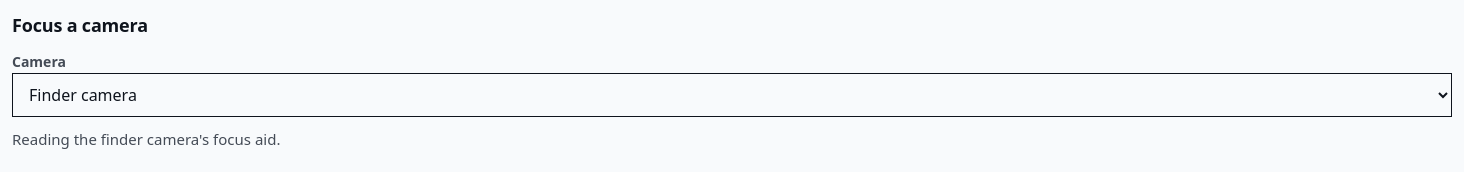
Test case: US4-S4: picking the imaging camera shows the existing Focus block once its view is ready
The width and height of the screenshot is (1464, 172).
Later steps or results of the test are not shown.
Select "Imaging camera" in the dropdown labelled "Camera" at (732, 95), box [12,73,1452,117]
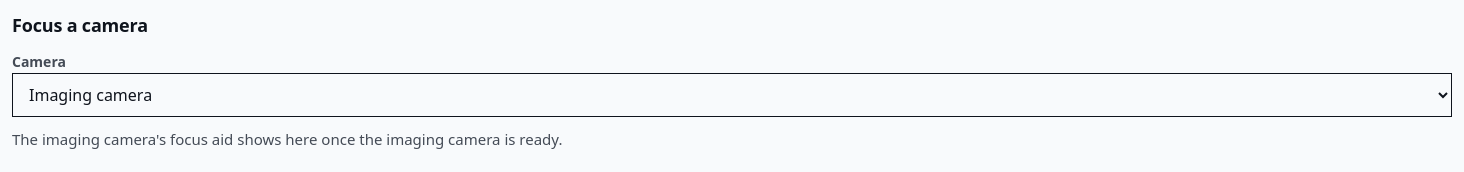
Now the text "The imaging camera's focus aid shows here once the imaging camera is ready." is shown, box [12,129,562,149]
